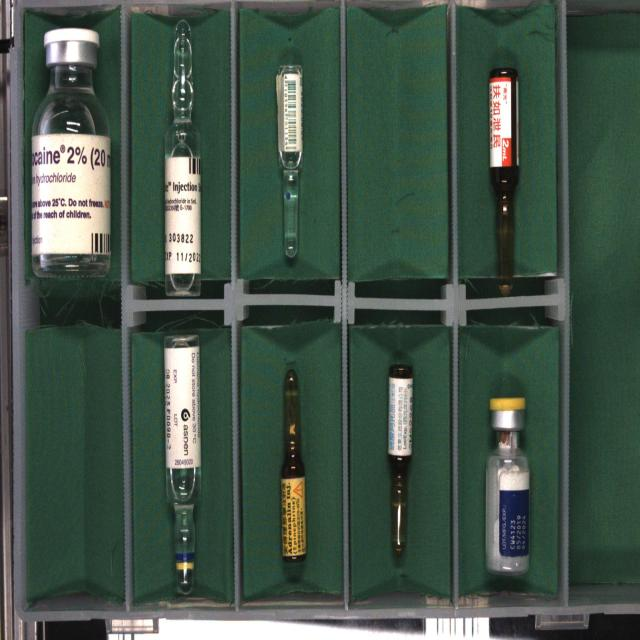Vials: (31, 28, 111, 278), (486, 397, 530, 575)
